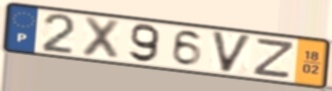2: (41, 12, 78, 56)
6: (170, 29, 204, 68)
9: (127, 24, 162, 64)
V: (209, 30, 255, 75)
X: (79, 15, 123, 62)
Z: (250, 38, 297, 81)
